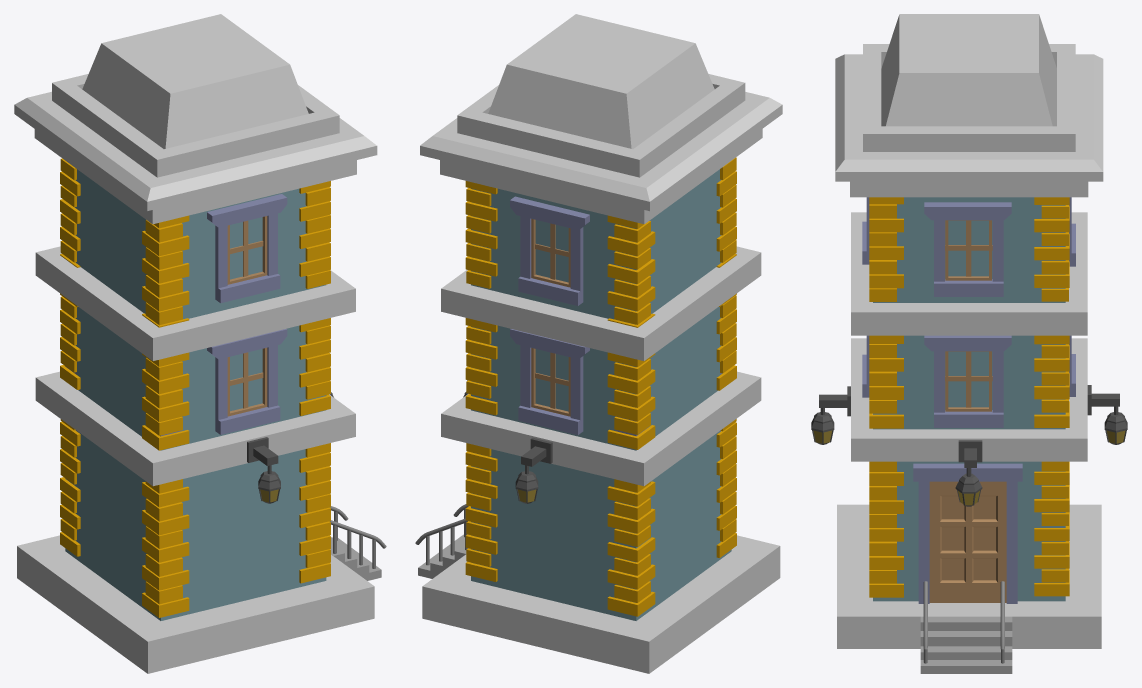
The model's file is PurpleYellow.fbx.
3 views of the same model, side by side, from view 1: azimuth 30°, elevation 25°; view 2: azimuth 150°, elevation 25°; view 3: azimuth 270°, elevation 25° (orthographic).
Parts seen in each view (by area): view 1: polySurface178, pCube46, polySurface116, pCube45, pCube48, polySurface195, polySurface194, polySurface193, polySurface199, pCylinder66, pPlane8; view 2: polySurface178, pCube46, polySurface116, pCube45, pCube48, polySurface195, polySurface191, polySurface192, polySurface196, pPlane8, pCylinder66; view 3: pCube46, polySurface178, polySurface116, pCube45, pCube48, polySurface195, polySurface170, polySurface190, pPlane8, polySurface201, polySurface173, polySurface172 (+6 smaller).
Boxes of the visible parts, x1,y1,x2,y2 form: polySurface178: (65,169,326,620); pCube46: (14,14,377,224); polySurface116: (60,158,330,617); pCube45: (17,535,374,673); pCube48: (35,246,355,360); polySurface195: (35,371,355,486); polySurface194: (207,194,287,303); polySurface193: (207,329,287,434); polySurface199: (247,437,280,503); pCylinder66: (330,506,386,568); pPlane8: (330,537,381,580); polySurface178: (471,169,731,620); pCube46: (420,14,782,224); polySurface116: (465,157,736,616); pCube45: (422,535,780,673); pCube48: (441,246,761,360); polySurface195: (441,371,761,486); polySurface191: (510,196,589,305); polySurface192: (510,329,589,434); polySurface196: (515,437,552,503); pPlane8: (418,534,466,578); pCylinder66: (415,504,468,565); pCube46: (835,14,1103,197); polySurface178: (873,197,1065,601); polySurface116: (869,197,1069,597); pCube45: (837,504,1101,648); pCube48: (851,212,1087,335); polySurface195: (851,338,1087,461); polySurface170: (929,481,1006,602); polySurface190: (924,202,1011,296); pPlane8: (920,616,1012,673); polySurface201: (924,335,1011,427); polySurface173: (913,463,1022,481); polySurface172: (1006,481,1017,603).
Size of the model in its own units: 19.84 by 36.43 by 18.95.
